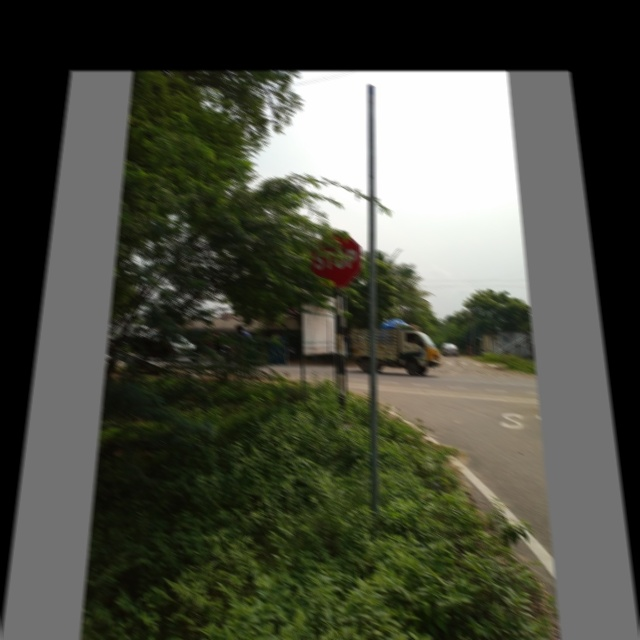Stop: (311, 232, 359, 289)
